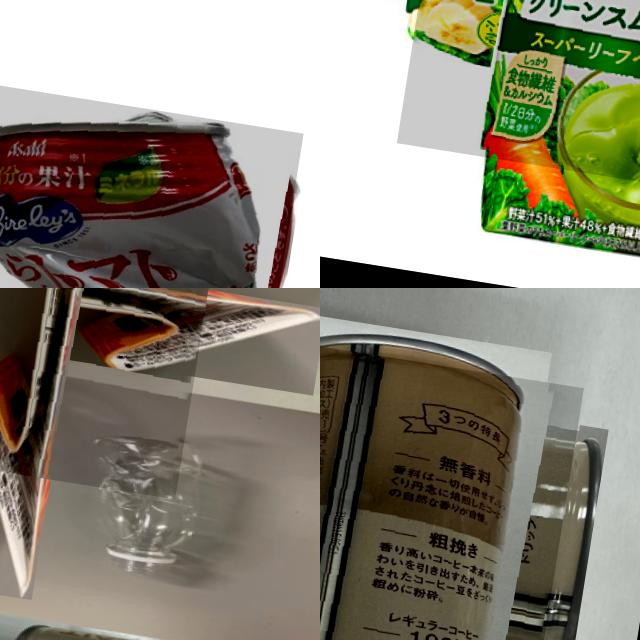Aluminium Foil: (396, 0, 640, 204), (0, 288, 216, 499)
Can: (320, 332, 582, 640), (0, 79, 302, 288), (2, 615, 312, 640)
Transparent Plastic Bottle: (64, 421, 215, 584)
